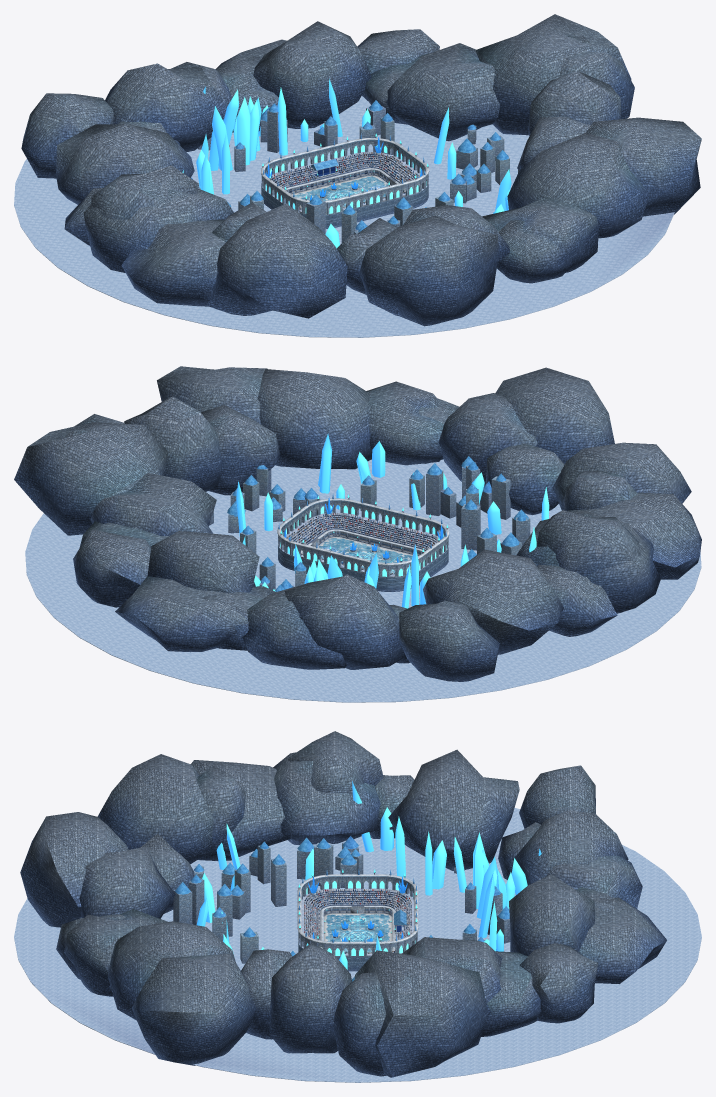
Rendered from arena_frost.glb.
The picture shows the model from 3 angles, top to bottom: view 1: azimuth 30°, elevation 25°; view 2: azimuth 150°, elevation 25°; view 3: azimuth 270°, elevation 25°; orthographic projection. The views are drawn at different scales.
Parts seen in each view (by area): view 1: Decor, Stands, Ground, Walls; view 2: Decor, Stands, Ground, Walls; view 3: Decor, Stands, Ground, Walls.
Part boxes in pixels (<box>): Decor: <box>14,14,701,337</box>; Stands: <box>261,152,428,228</box>; Ground: <box>291,175,390,207</box>; Walls: <box>285,168,406,214</box>; Decor: <box>14,366,701,702</box>; Stands: <box>278,513,448,591</box>; Ground: <box>317,537,412,573</box>; Walls: <box>301,529,424,577</box>; Decor: <box>14,731,701,1082</box>; Stands: <box>298,889,417,971</box>; Ground: <box>324,913,392,952</box>; Walls: <box>320,905,395,956</box>.
Bounding box in the file's own units: 325 × 50.9 × 320.
16 materials, 10 textured.
